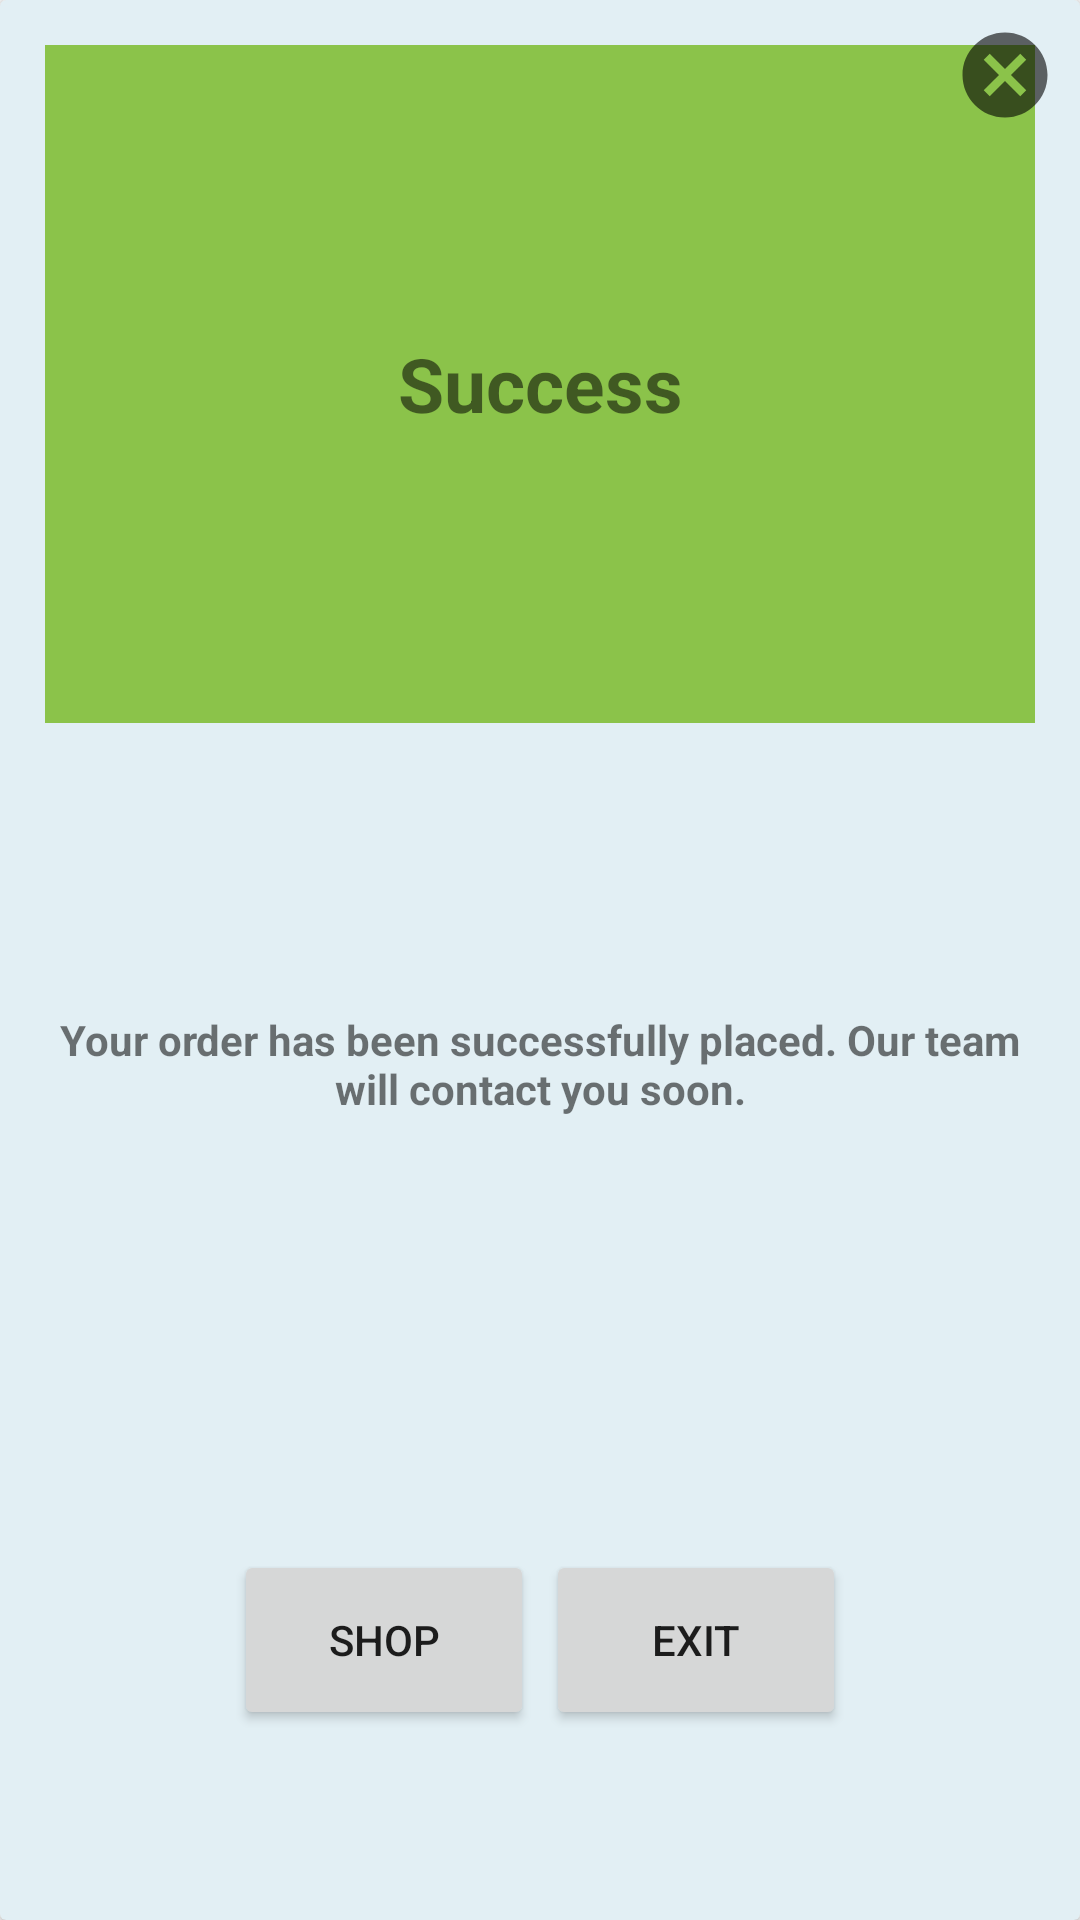

Where icons sit on this 1080*1920 app screen, as (x1, y1, x2, y2):
cancel: (930, 0, 1080, 150)
